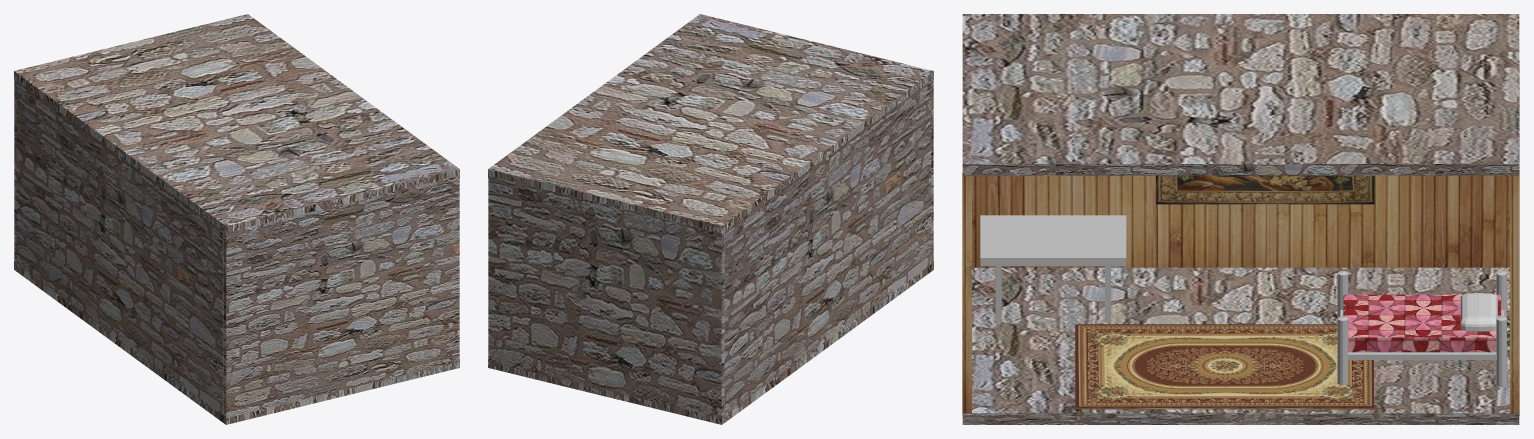
File: roomWoodWalls.dae
3 renders of one model, left to right at view 1: azimuth 30°, elevation 25°; view 2: azimuth 150°, elevation 25°; view 3: azimuth 270°, elevation 25°, orthographic. The views are drawn at different scales.
Parts seen in each view (by area): view 1: room; view 2: room; view 3: room, rug, table, mattress, tapestry, frame, pillow.
Part boxes in pixels (<box>): room: <box>14,14,459,424</box>; room: <box>488,14,933,424</box>; room: <box>962,14,1519,424</box>; rug: <box>1075,324,1373,409</box>; table: <box>980,215,1126,322</box>; mattress: <box>1343,294,1501,352</box>; tapestry: <box>1156,175,1374,204</box>; frame: <box>1337,271,1506,386</box>; pillow: <box>1460,293,1497,331</box>.
Size of the model in its own units: 8.12 by 12.75 by 6.59.
